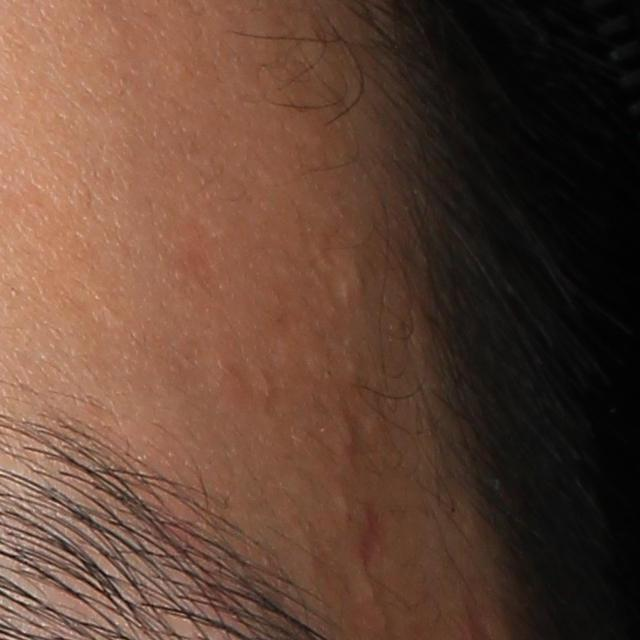comedo: (336, 493, 351, 519)
